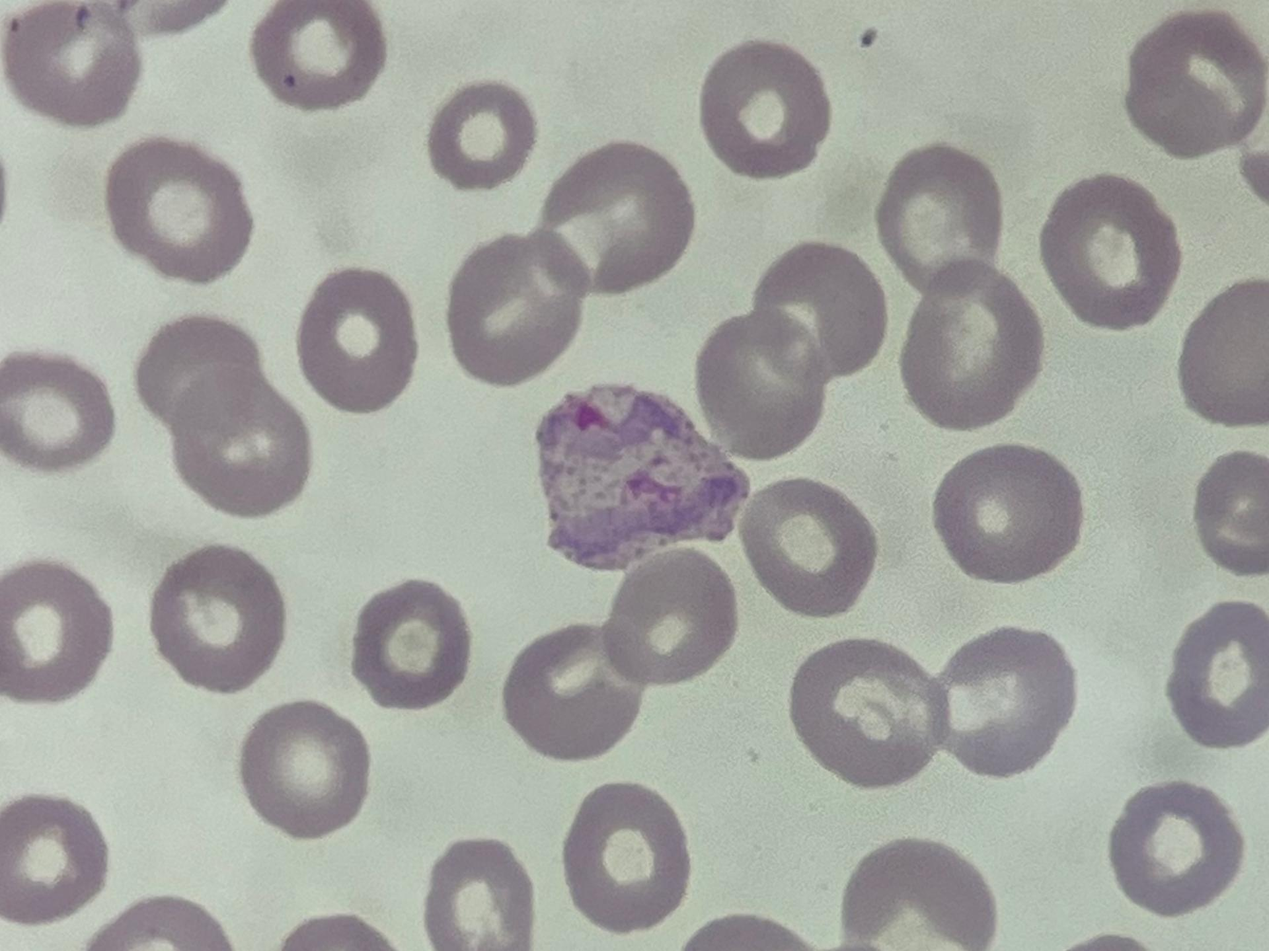Infected: (534, 382, 758, 572)
Uninfected: (532, 139, 696, 296), (902, 260, 1044, 432), (920, 628, 1078, 778), (787, 640, 947, 786), (448, 230, 589, 388), (1041, 177, 1184, 329), (1127, 9, 1268, 162), (107, 137, 252, 285), (692, 308, 832, 461), (170, 367, 310, 519), (932, 445, 1085, 584), (871, 144, 1001, 306), (152, 544, 285, 693), (753, 238, 888, 384), (506, 622, 644, 762), (560, 783, 687, 934), (600, 548, 738, 686), (742, 478, 877, 619), (1109, 780, 1247, 917), (699, 40, 831, 182), (238, 699, 368, 840), (296, 266, 417, 415), (843, 836, 996, 951), (3, 0, 139, 128), (0, 560, 114, 705), (347, 580, 470, 711), (1167, 600, 1269, 752), (248, 0, 388, 110), (1176, 273, 1269, 431), (0, 793, 106, 926), (0, 351, 118, 468), (137, 316, 261, 417), (426, 838, 536, 951), (425, 80, 533, 189), (1193, 448, 1269, 579)
